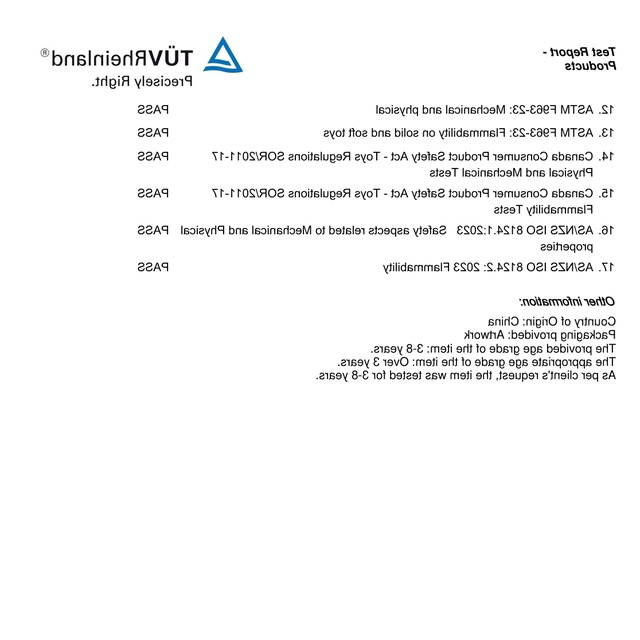tuv_rheinland: (38, 32, 242, 77)
